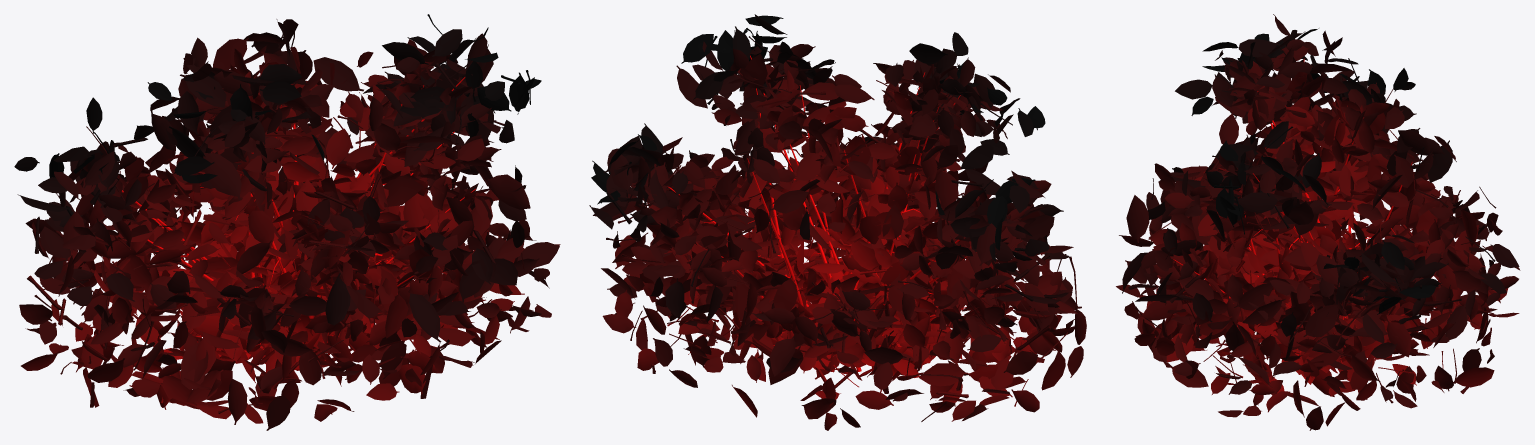
The model's file is SM_ShrubBroadleaf_01.fbx.
3 views of the same model, side by side, from view 1: azimuth 30°, elevation 25°; view 2: azimuth 150°, elevation 25°; view 3: azimuth 270°, elevation 25° (orthographic). The views are drawn at different scales.
Visible parts, largest first — view 1: SM_ShrubBroadleaf_01; view 2: SM_ShrubBroadleaf_01; view 3: SM_ShrubBroadleaf_01.
Boxes of the visible parts, x1=… form: SM_ShrubBroadleaf_01: x1=14, y1=14, x2=560, y2=430; SM_ShrubBroadleaf_01: x1=589, y1=14, x2=1086, y2=430; SM_ShrubBroadleaf_01: x1=1116, y1=14, x2=1520, y2=430.
Size of what is drawn, in the model's own units: 214 by 178 by 142.
